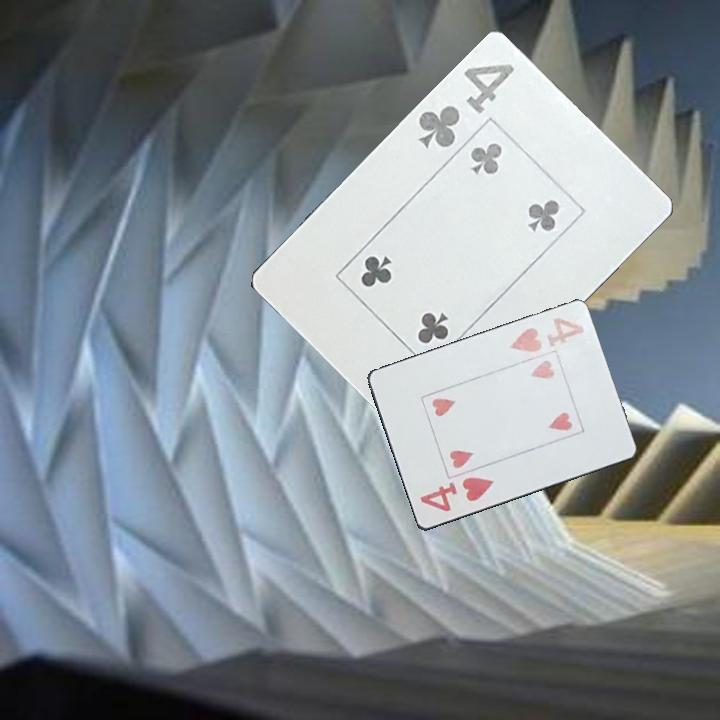4c: (414, 60, 518, 153)
4h: (416, 474, 497, 516), (506, 314, 587, 356)
